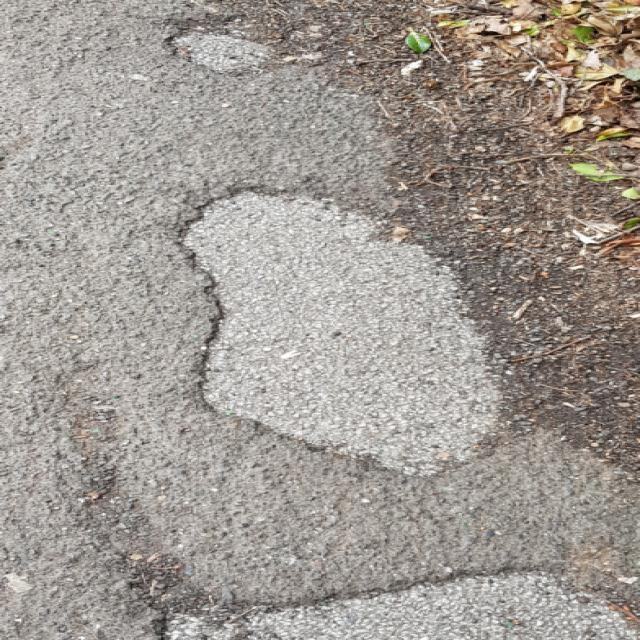pothole: (168, 187, 514, 478), (152, 564, 638, 640), (155, 23, 286, 73)
